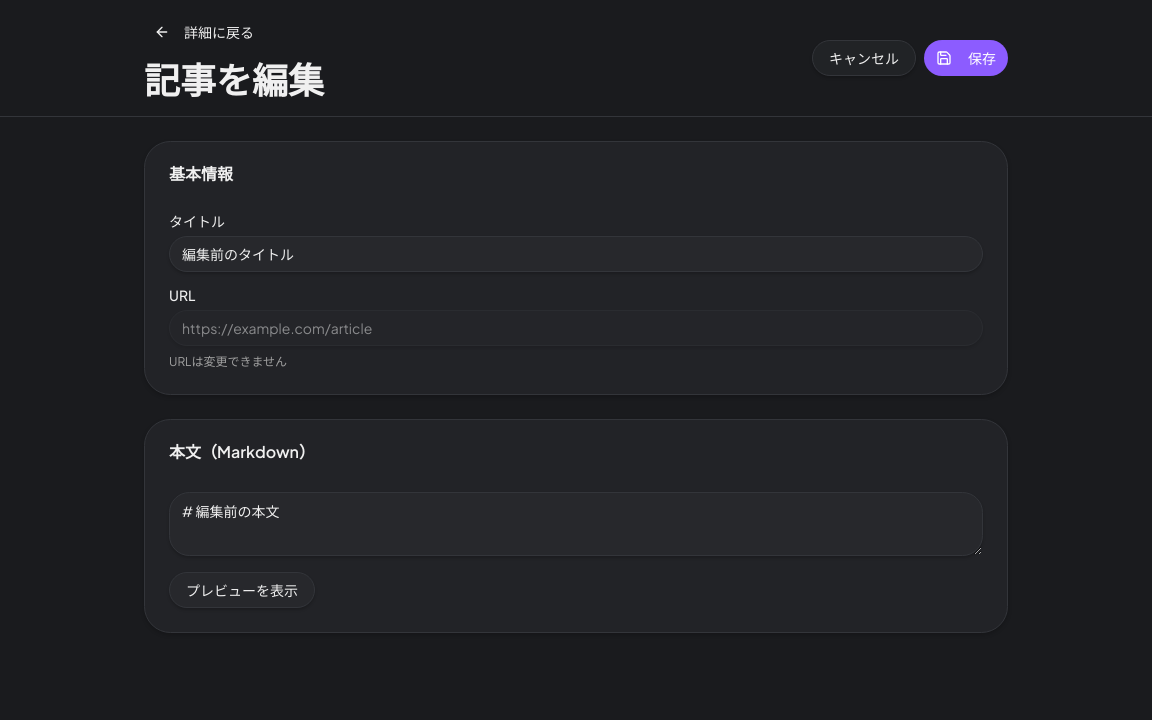
記事編集 UI › ネットワークエラー時は入力値を保持してエラーを表示する
The image size is (1152, 720).
Click the button "保存" at (966, 58), box [924, 40, 1008, 76]
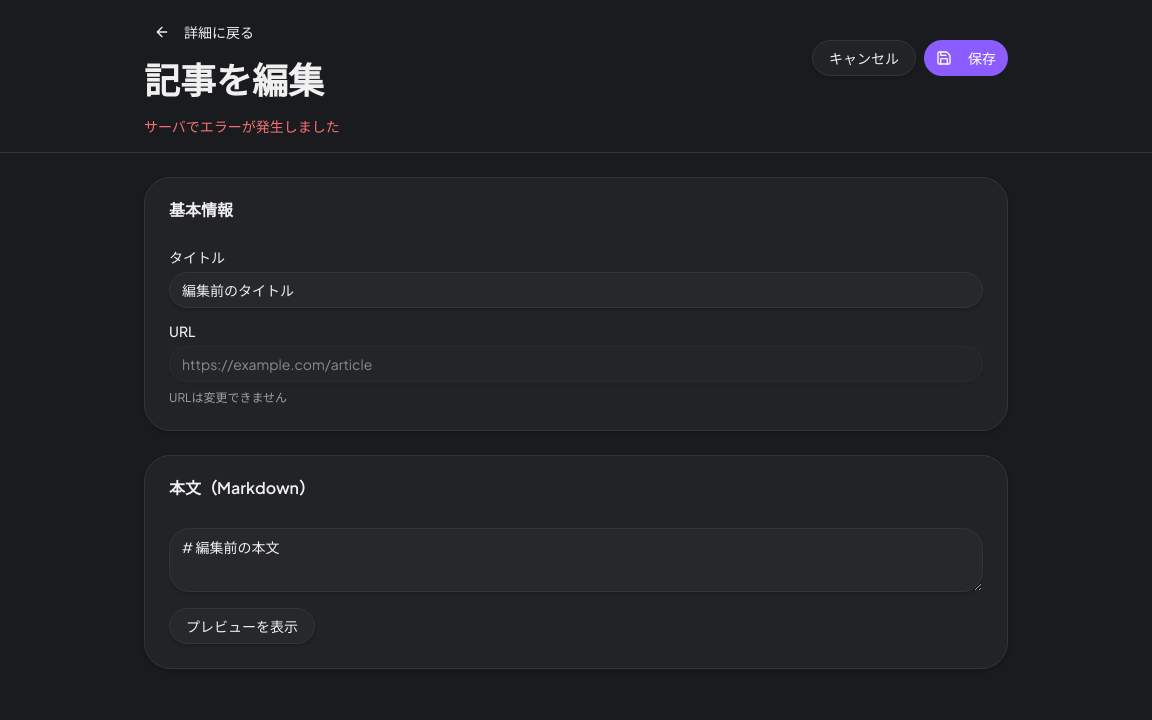
Now the text "サーバでエラーが発生しました" is shown, box [144, 117, 340, 135]
